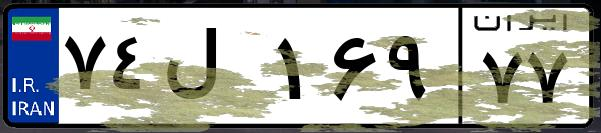1: (270, 28, 330, 110)
4: (110, 28, 158, 98)
6: (330, 28, 385, 110)
7: (57, 26, 110, 100), (475, 38, 525, 113), (525, 38, 570, 115)
9: (385, 28, 445, 110)
ل: (158, 20, 270, 120)
